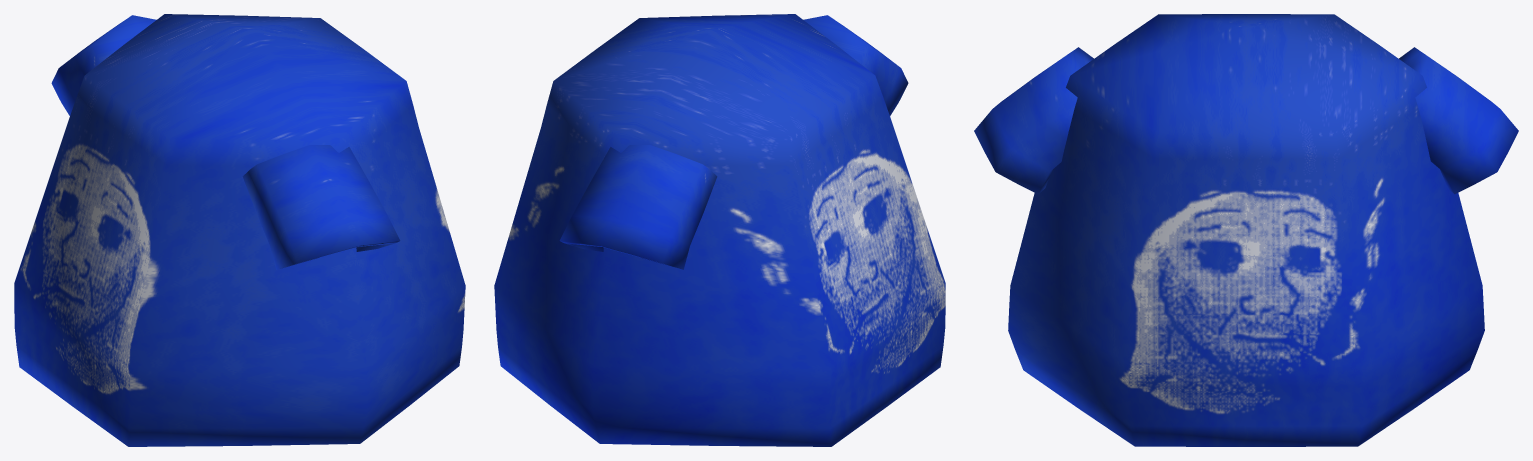
The model's file is OVO.glb.
3 renders of one model, left to right at view 1: azimuth 30°, elevation 25°; view 2: azimuth 150°, elevation 25°; view 3: azimuth 270°, elevation 25°, orthographic. The views are drawn at different scales.
Parts seen in each view (by area): view 1: OVO; view 2: OVO; view 3: OVO.
Part boxes in pixels (box(x1,y1,x2,y2)): OVO: box(14, 14, 465, 446); OVO: box(494, 14, 945, 446); OVO: box(974, 14, 1518, 446).
Bounding box in the file's own units: 1.48 × 1.5 × 2.03.
1 material, 1 textured.
